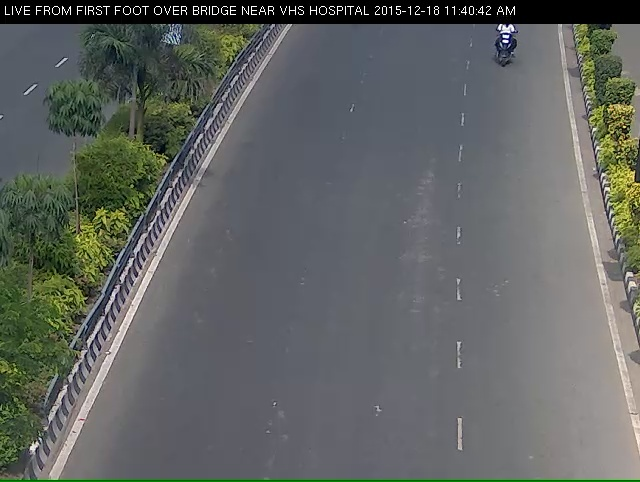Person: (491, 19, 522, 77)
